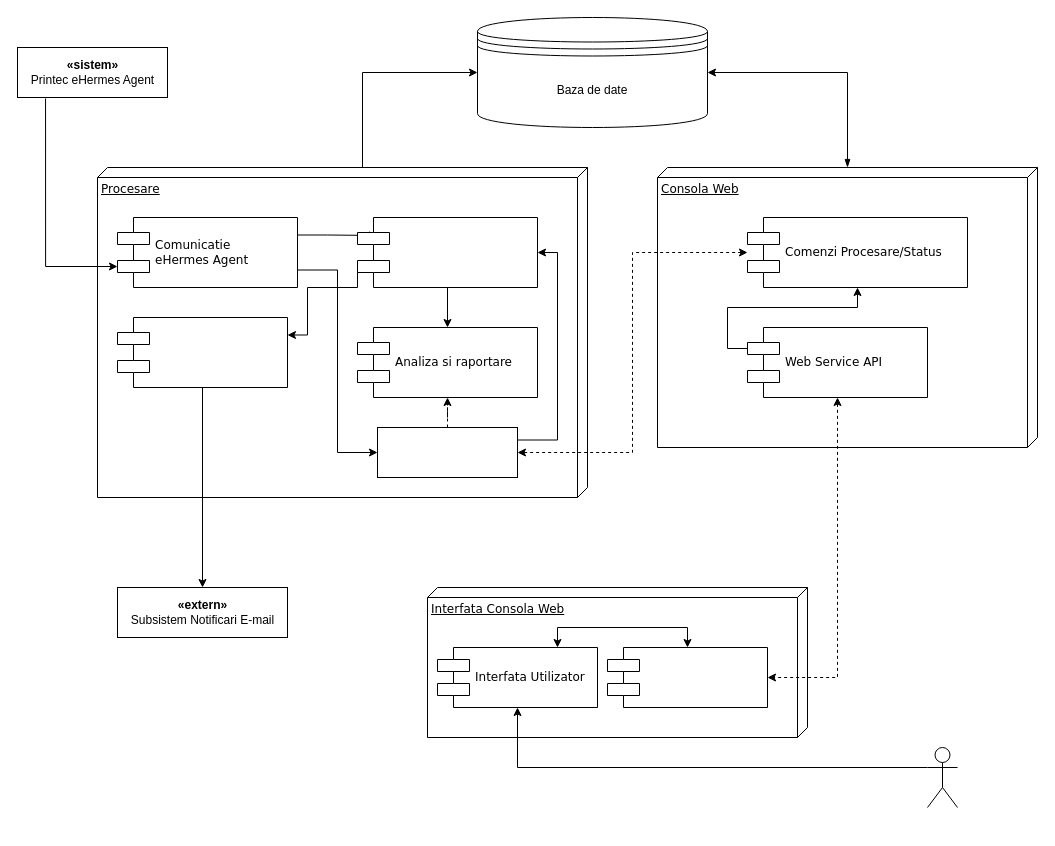
Some shapes in this 1055 by 846 pixel diagram are drawn without their labels. The shapes that lost their labels are listed below. From the top down, each one's centre as x and y in pixels, then its label:
the point at 447,252: Procesare evenimente
the point at 202,352: Gateway notificari
the point at 447,452: «interfata» Interfata Control/Status Intern
the point at 687,677: Comunicatie Consola Web
the point at 942,777: Utilizator sistem
